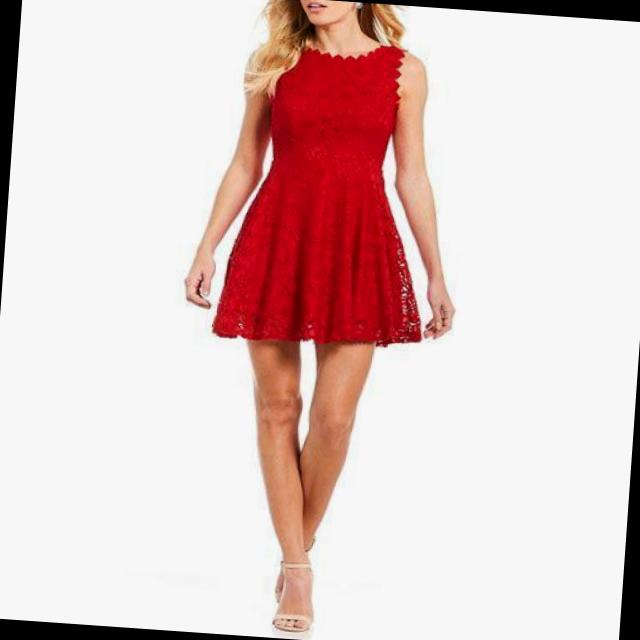dress: (210, 32, 440, 350)
